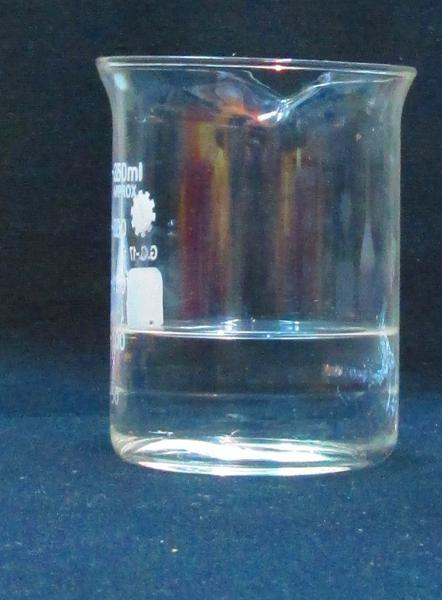Beaker: (87, 43, 417, 482)
